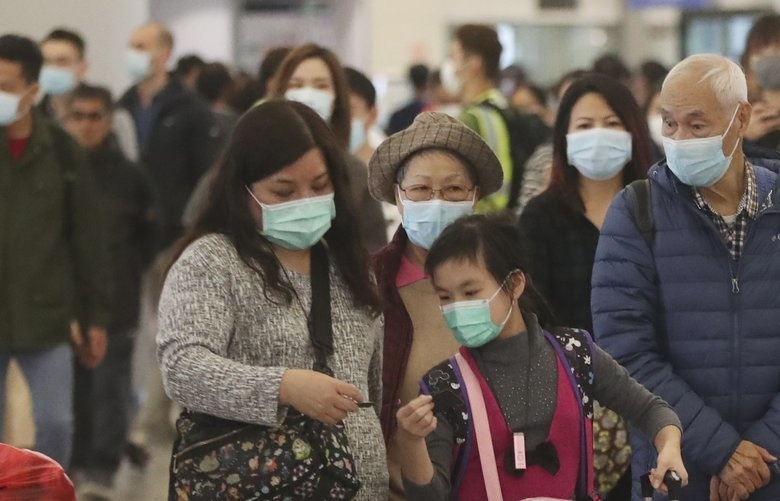with_mask: (235, 144, 351, 249), (654, 72, 750, 188), (387, 143, 480, 251), (430, 254, 520, 351), (557, 93, 639, 179)
